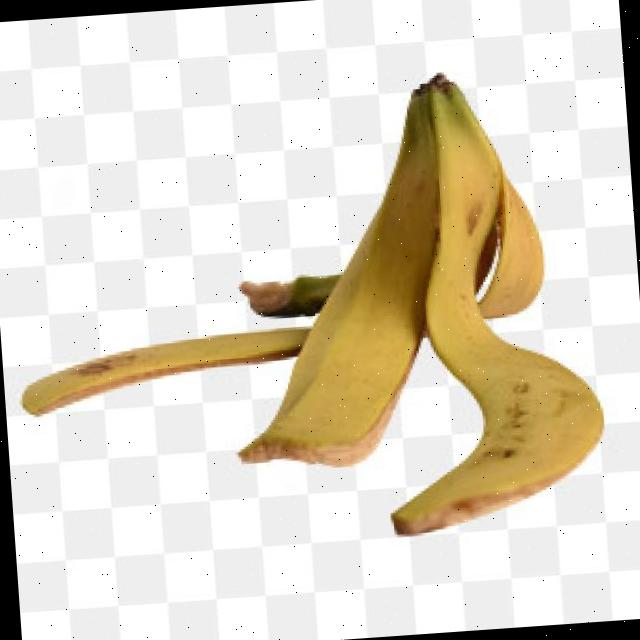banana-peel: (0, 61, 611, 560), (358, 64, 610, 536)
